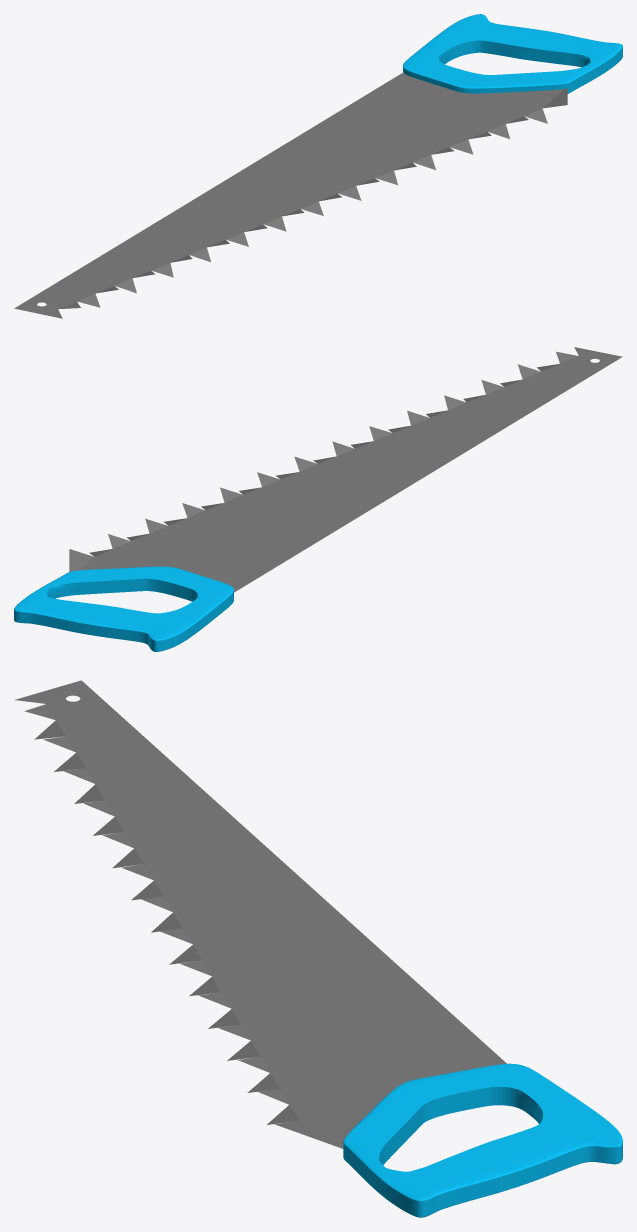
Rendered from saw.fbx.
3 renders of one model, top to bottom at view 1: azimuth 30°, elevation 25°; view 2: azimuth 210°, elevation 25°; view 3: azimuth 270°, elevation 25°, orthographic. The views are drawn at different scales.
Parts seen in each view (by area): view 1: Boole_1, Subdivision_Surface_1; view 2: Boole_1, Subdivision_Surface_1; view 3: Boole_1, Subdivision_Surface_1.
Part boxes in pixels (box(x1,y1,x2,y2)): Boole_1: box(14, 72, 567, 318); Subdivision_Surface_1: box(403, 14, 622, 93); Boole_1: box(69, 347, 622, 592); Subdivision_Surface_1: box(14, 566, 233, 651); Boole_1: box(15, 680, 506, 1148); Subdivision_Surface_1: box(343, 1063, 622, 1217).
Size of the model in its own units: 655 by 10.73 by 319.
